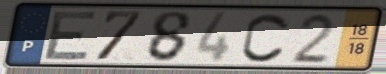2: (289, 12, 338, 65)
4: (194, 9, 235, 65)
7: (96, 9, 144, 62)
8: (147, 10, 194, 63)
C: (239, 11, 293, 65)
E: (41, 9, 100, 62)
